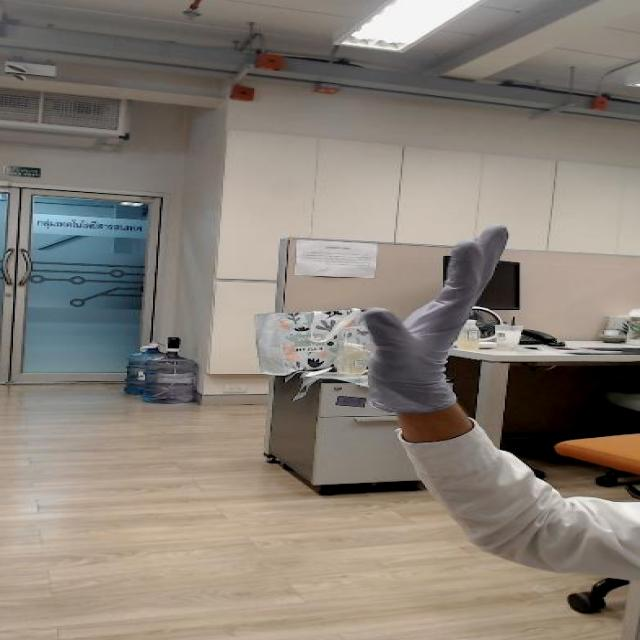glove: (339, 219, 531, 379)
